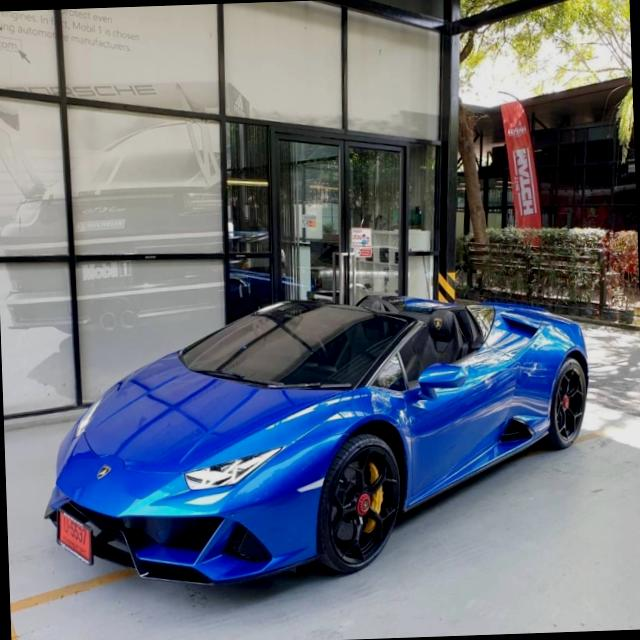license_plate: (56, 506, 95, 568)
